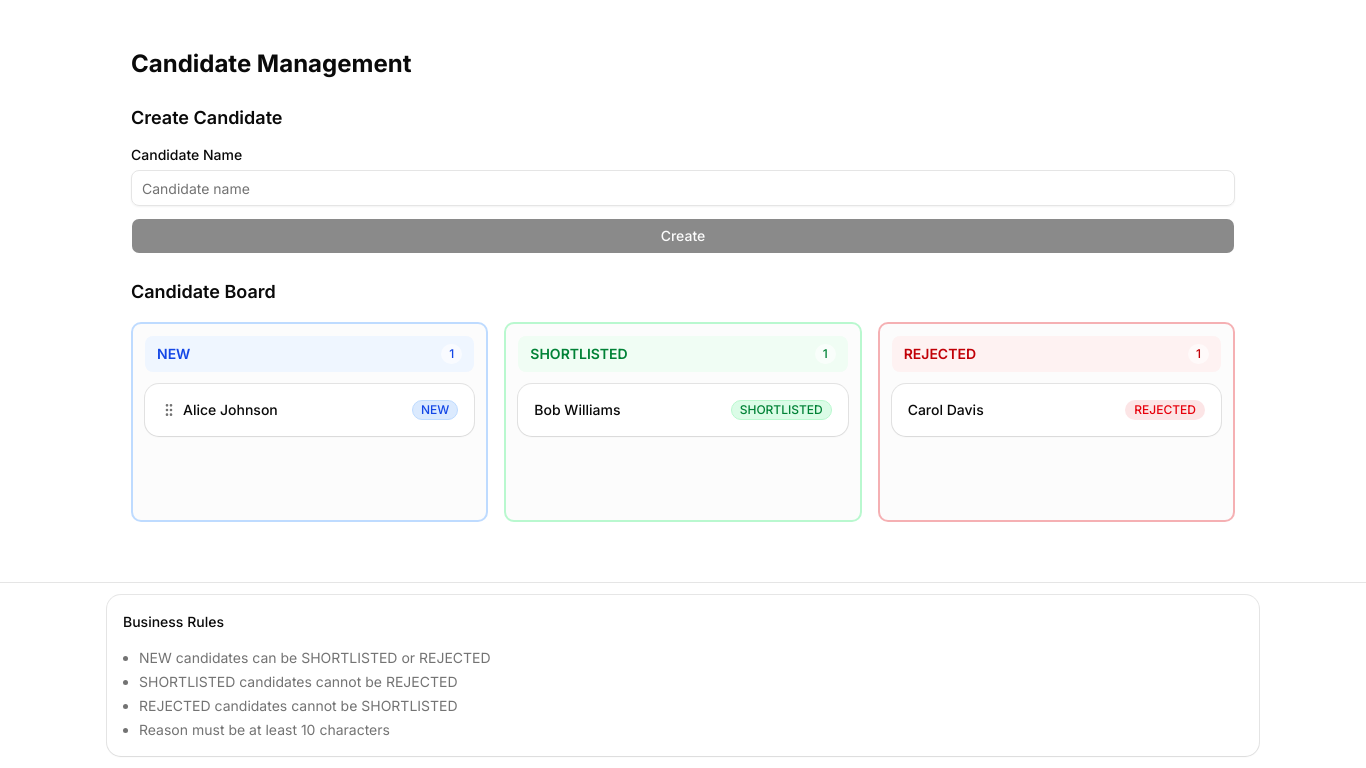
Scenario: LiveSession Page › opens sheet when clicking a non-draggable candidate card
The width and height of the screenshot is (1366, 768).
Click the text "Bob Williams".
click(577, 410)  # box [534,400,620,420]
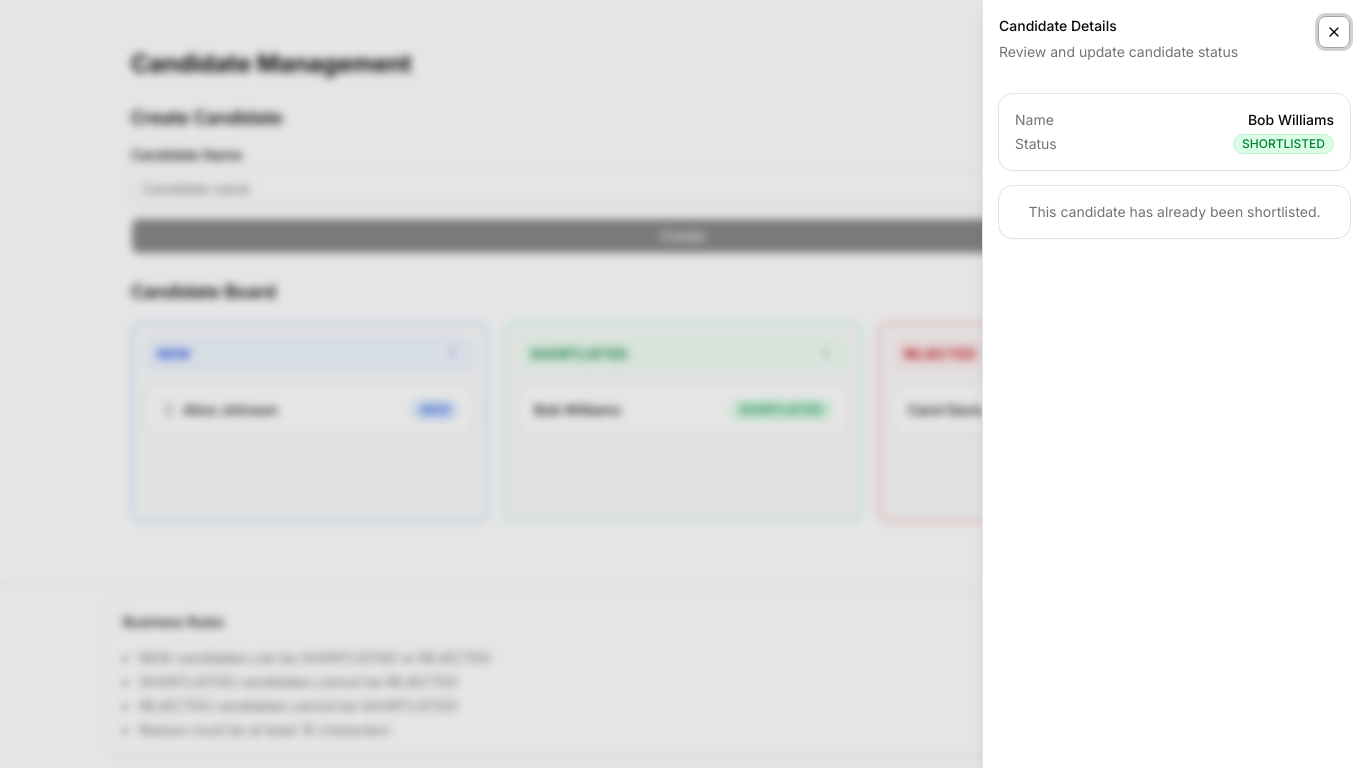
Expected: the dialog is shown, [982,0,1365,767]
